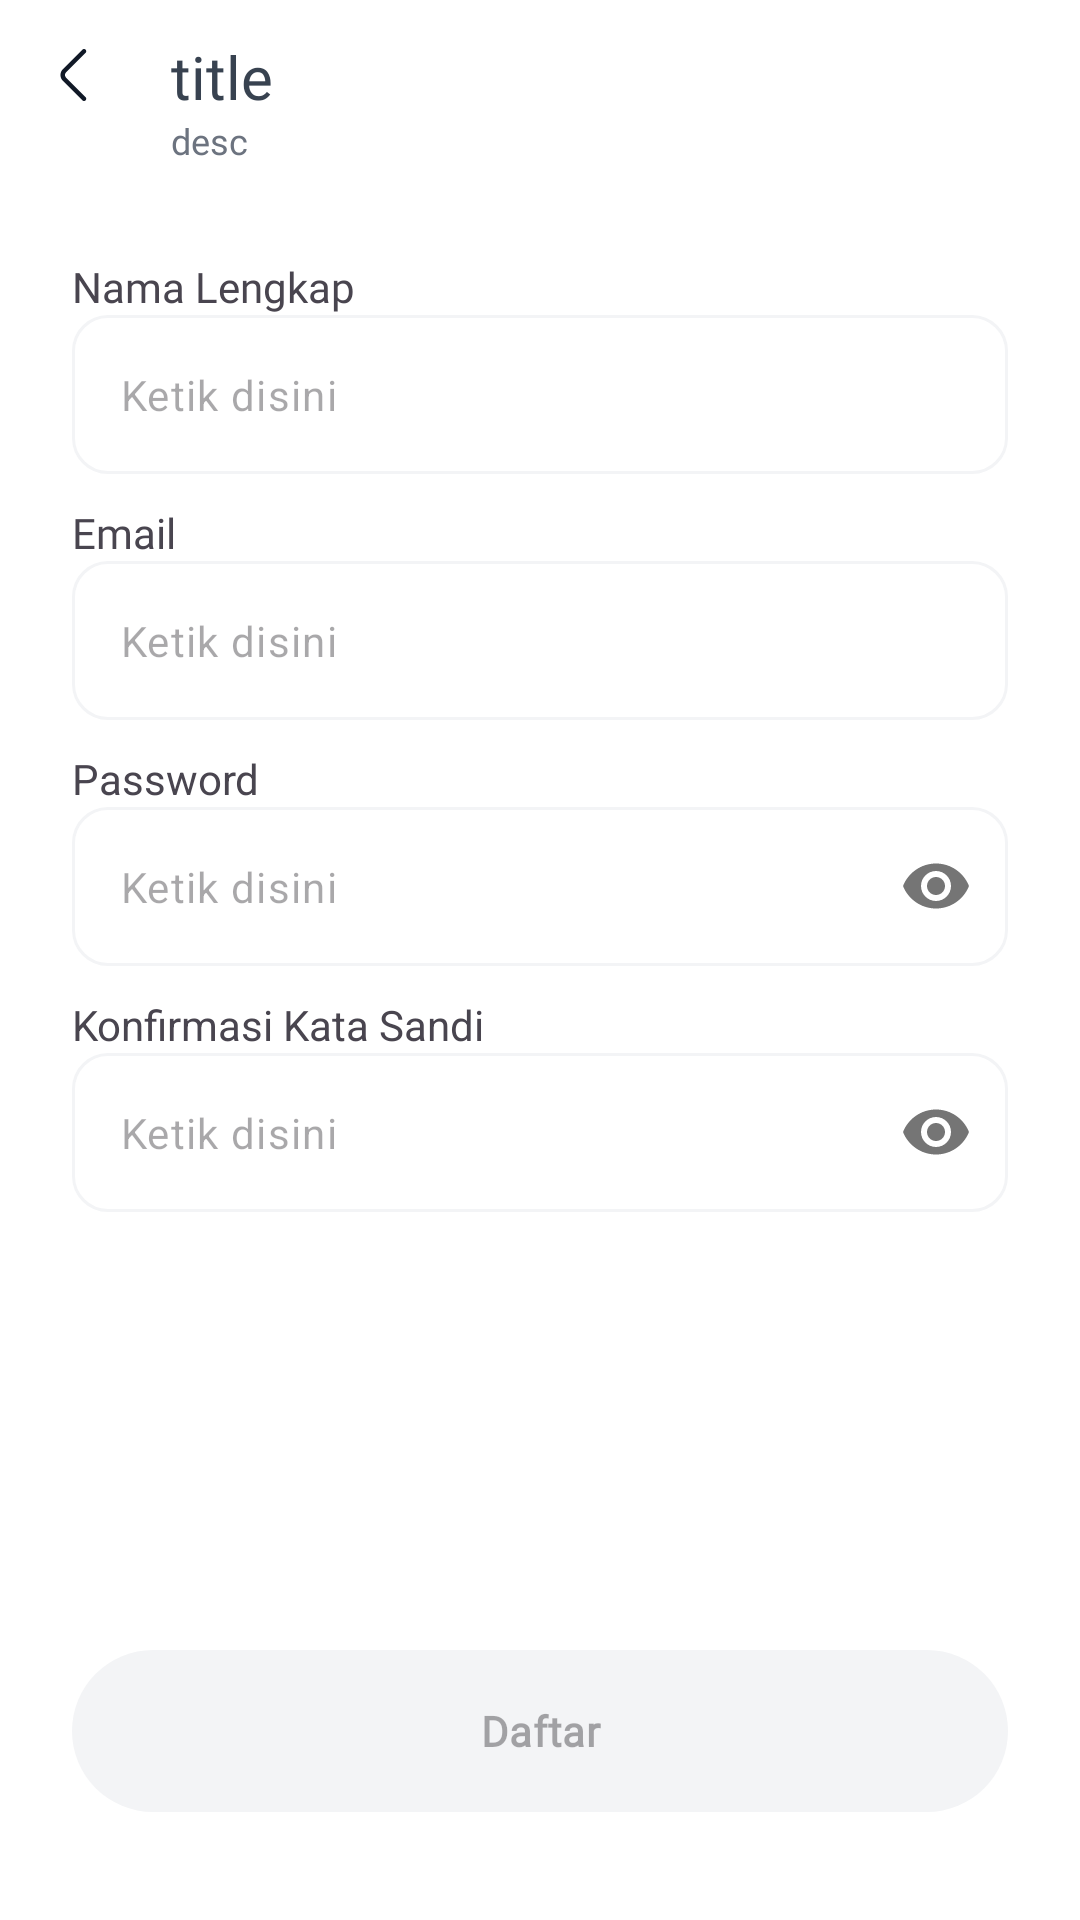

Icon click points for this 1080 x 1920 phone screenshot, format (x=x, y=y):
back: (x=73, y=75)
